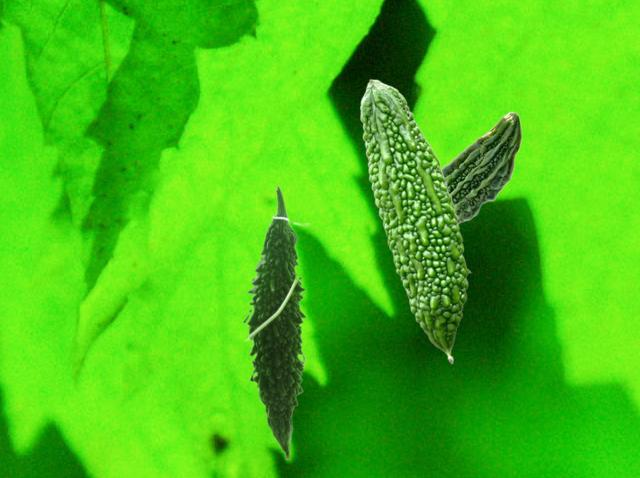ampalaya: (358, 77, 473, 364), (242, 183, 315, 461), (442, 110, 523, 223)
